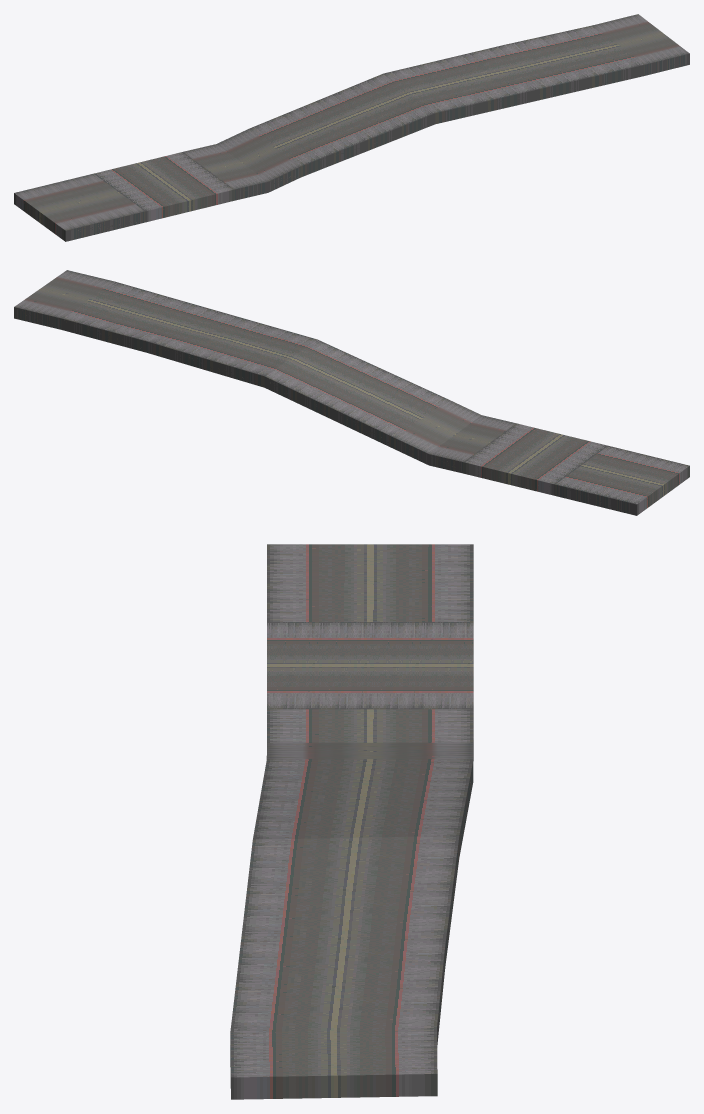
File: lodroadssfse10.obj
3 views of the same model, one above another, from view 1: azimuth 30°, elevation 25°; view 2: azimuth 150°, elevation 25°; view 3: azimuth 270°, elevation 25° (orthographic). The views are drawn at different scales.
Parts seen in each view (by area): view 1: LODroadsSFSE10; view 2: LODroadsSFSE10; view 3: LODroadsSFSE10.
Boxes of the visible parts, bbox=[...] form: LODroadsSFSE10: bbox=[14, 14, 689, 241]; LODroadsSFSE10: bbox=[14, 270, 689, 515]; LODroadsSFSE10: bbox=[230, 544, 473, 1099].
Size of the model in its own units: 138 by 10.02 by 23.56.
Materials: 1 (1 with a texture image).
